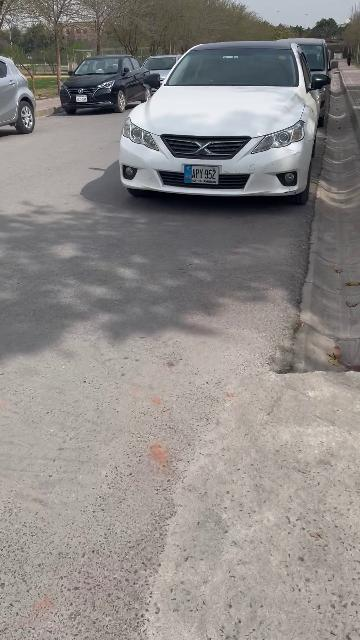plate: (184, 164, 221, 185)
